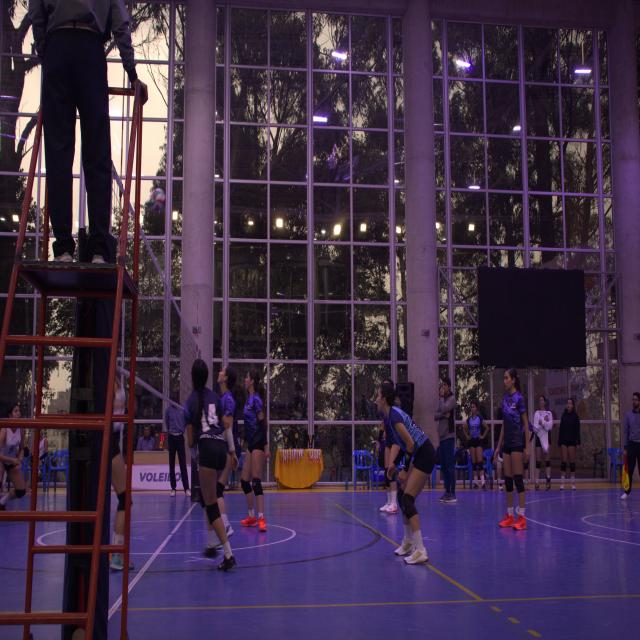volleyball: (150, 188, 164, 212)
